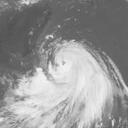cyclone: (25, 40, 117, 116)
